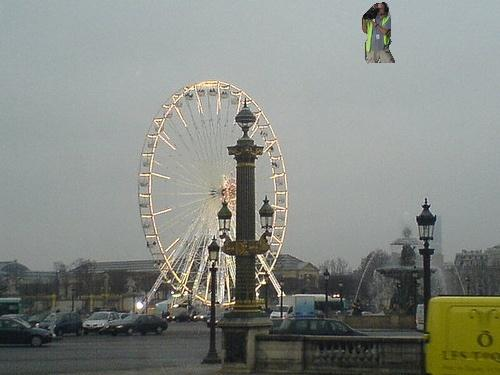tampered: (363, 3, 395, 64)
